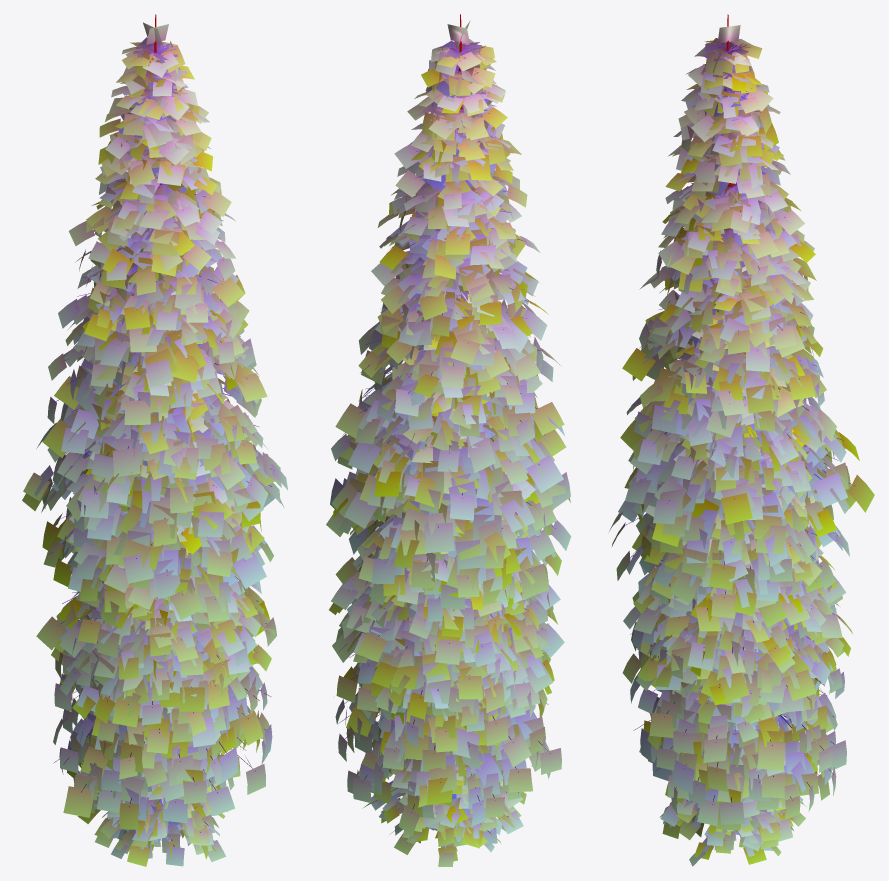
File: trees_lod0.glb
3 renders of one model, left to right at view 1: azimuth 30°, elevation 25°; view 2: azimuth 150°, elevation 25°; view 3: azimuth 270°, elevation 25°, orthographic.
Visible parts, largest first — view 1: tall_lod0_leaves, hemlock_lod0_leaves, spruce_lod0_leaves, young_lod0_leaves; view 2: tall_lod0_leaves, hemlock_lod0_leaves, spruce_lod0_leaves, young_lod0_leaves; view 3: tall_lod0_leaves, spruce_lod0_leaves, hemlock_lod0_leaves, young_lod0_leaves.
Boxes of the visible parts, x1,y1,x2,y2 form: tall_lod0_leaves: (22,22,287,626); hemlock_lod0_leaves: (51,451,272,829); spruce_lod0_leaves: (36,218,276,731); young_lod0_leaves: (77,760,228,866); tall_lod0_leaves: (326,20,571,621); hemlock_lod0_leaves: (335,412,561,836); spruce_lod0_leaves: (329,248,564,731); young_lod0_leaves: (362,745,526,866); tall_lod0_leaves: (609,25,874,627); spruce_lod0_leaves: (623,220,852,742); hemlock_lod0_leaves: (622,446,846,830); young_lod0_leaves: (659,714,806,866).
Size of the model in its own units: 9.02 by 32.47 by 9.48.
